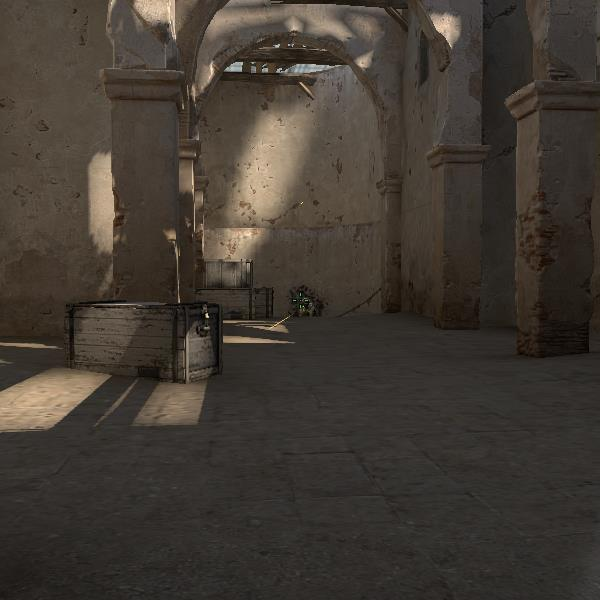ct_body: (291, 298, 318, 317)
ct_head: (300, 299, 311, 309)
